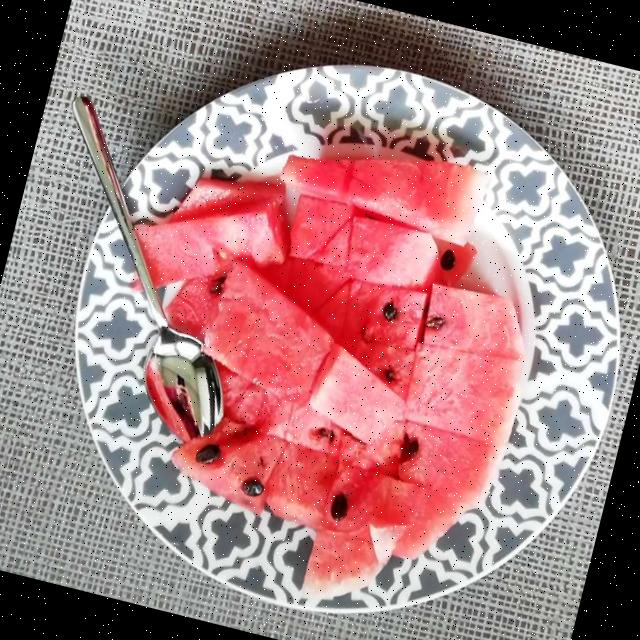watermelon-fresh: (137, 139, 521, 600)
